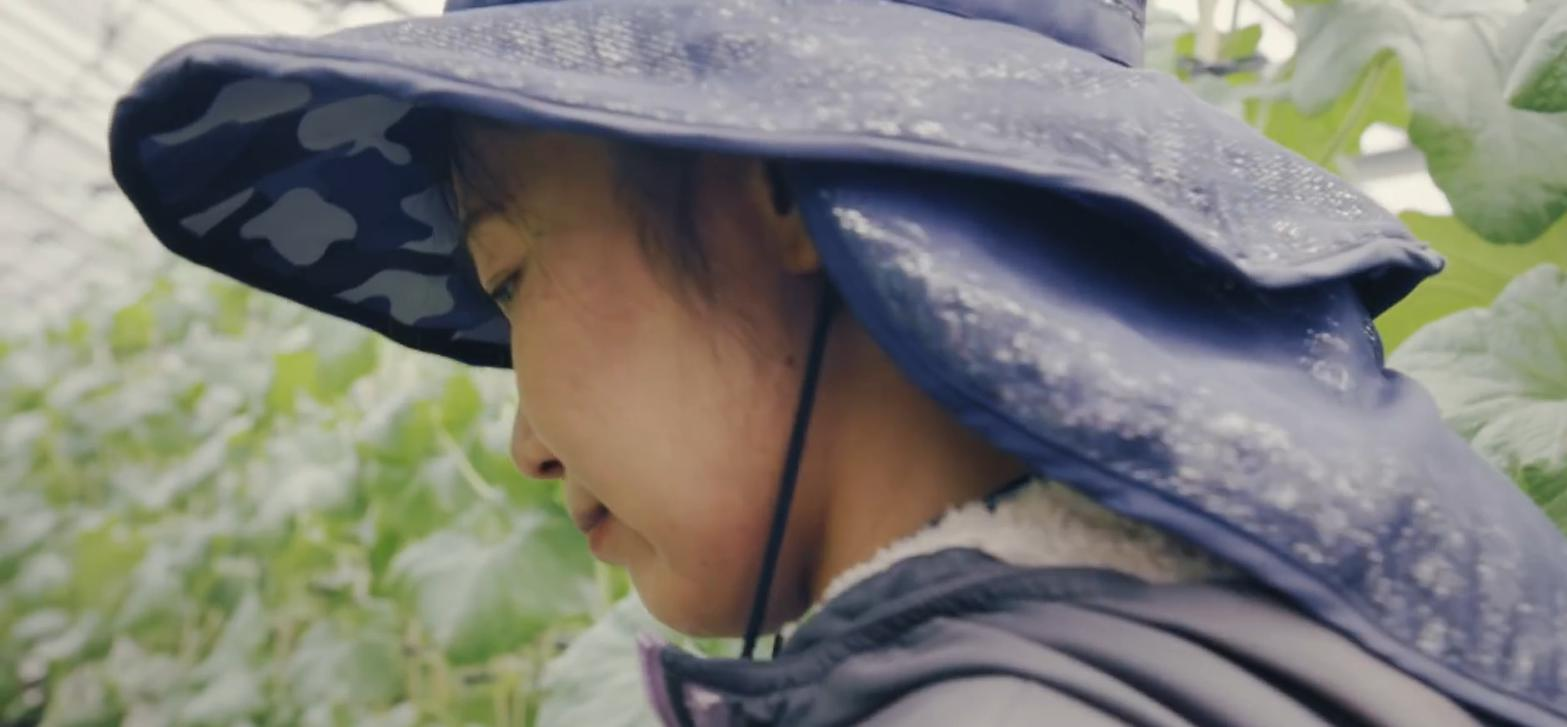without_mask: (503, 200, 737, 574)
